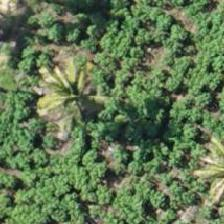coconut_tree: (37, 51, 127, 141)
